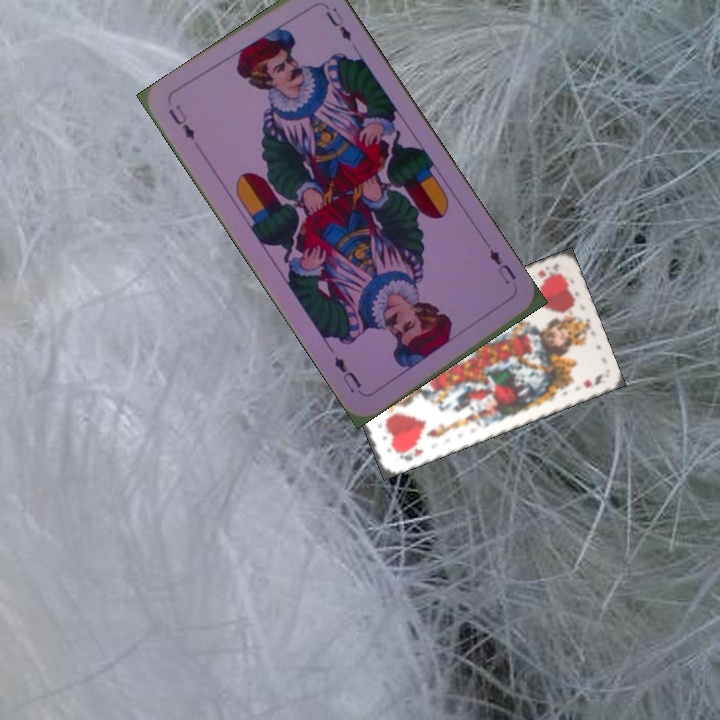EU: (485, 245, 519, 288), (164, 100, 198, 143)
HK: (392, 441, 426, 464), (534, 259, 564, 283)
